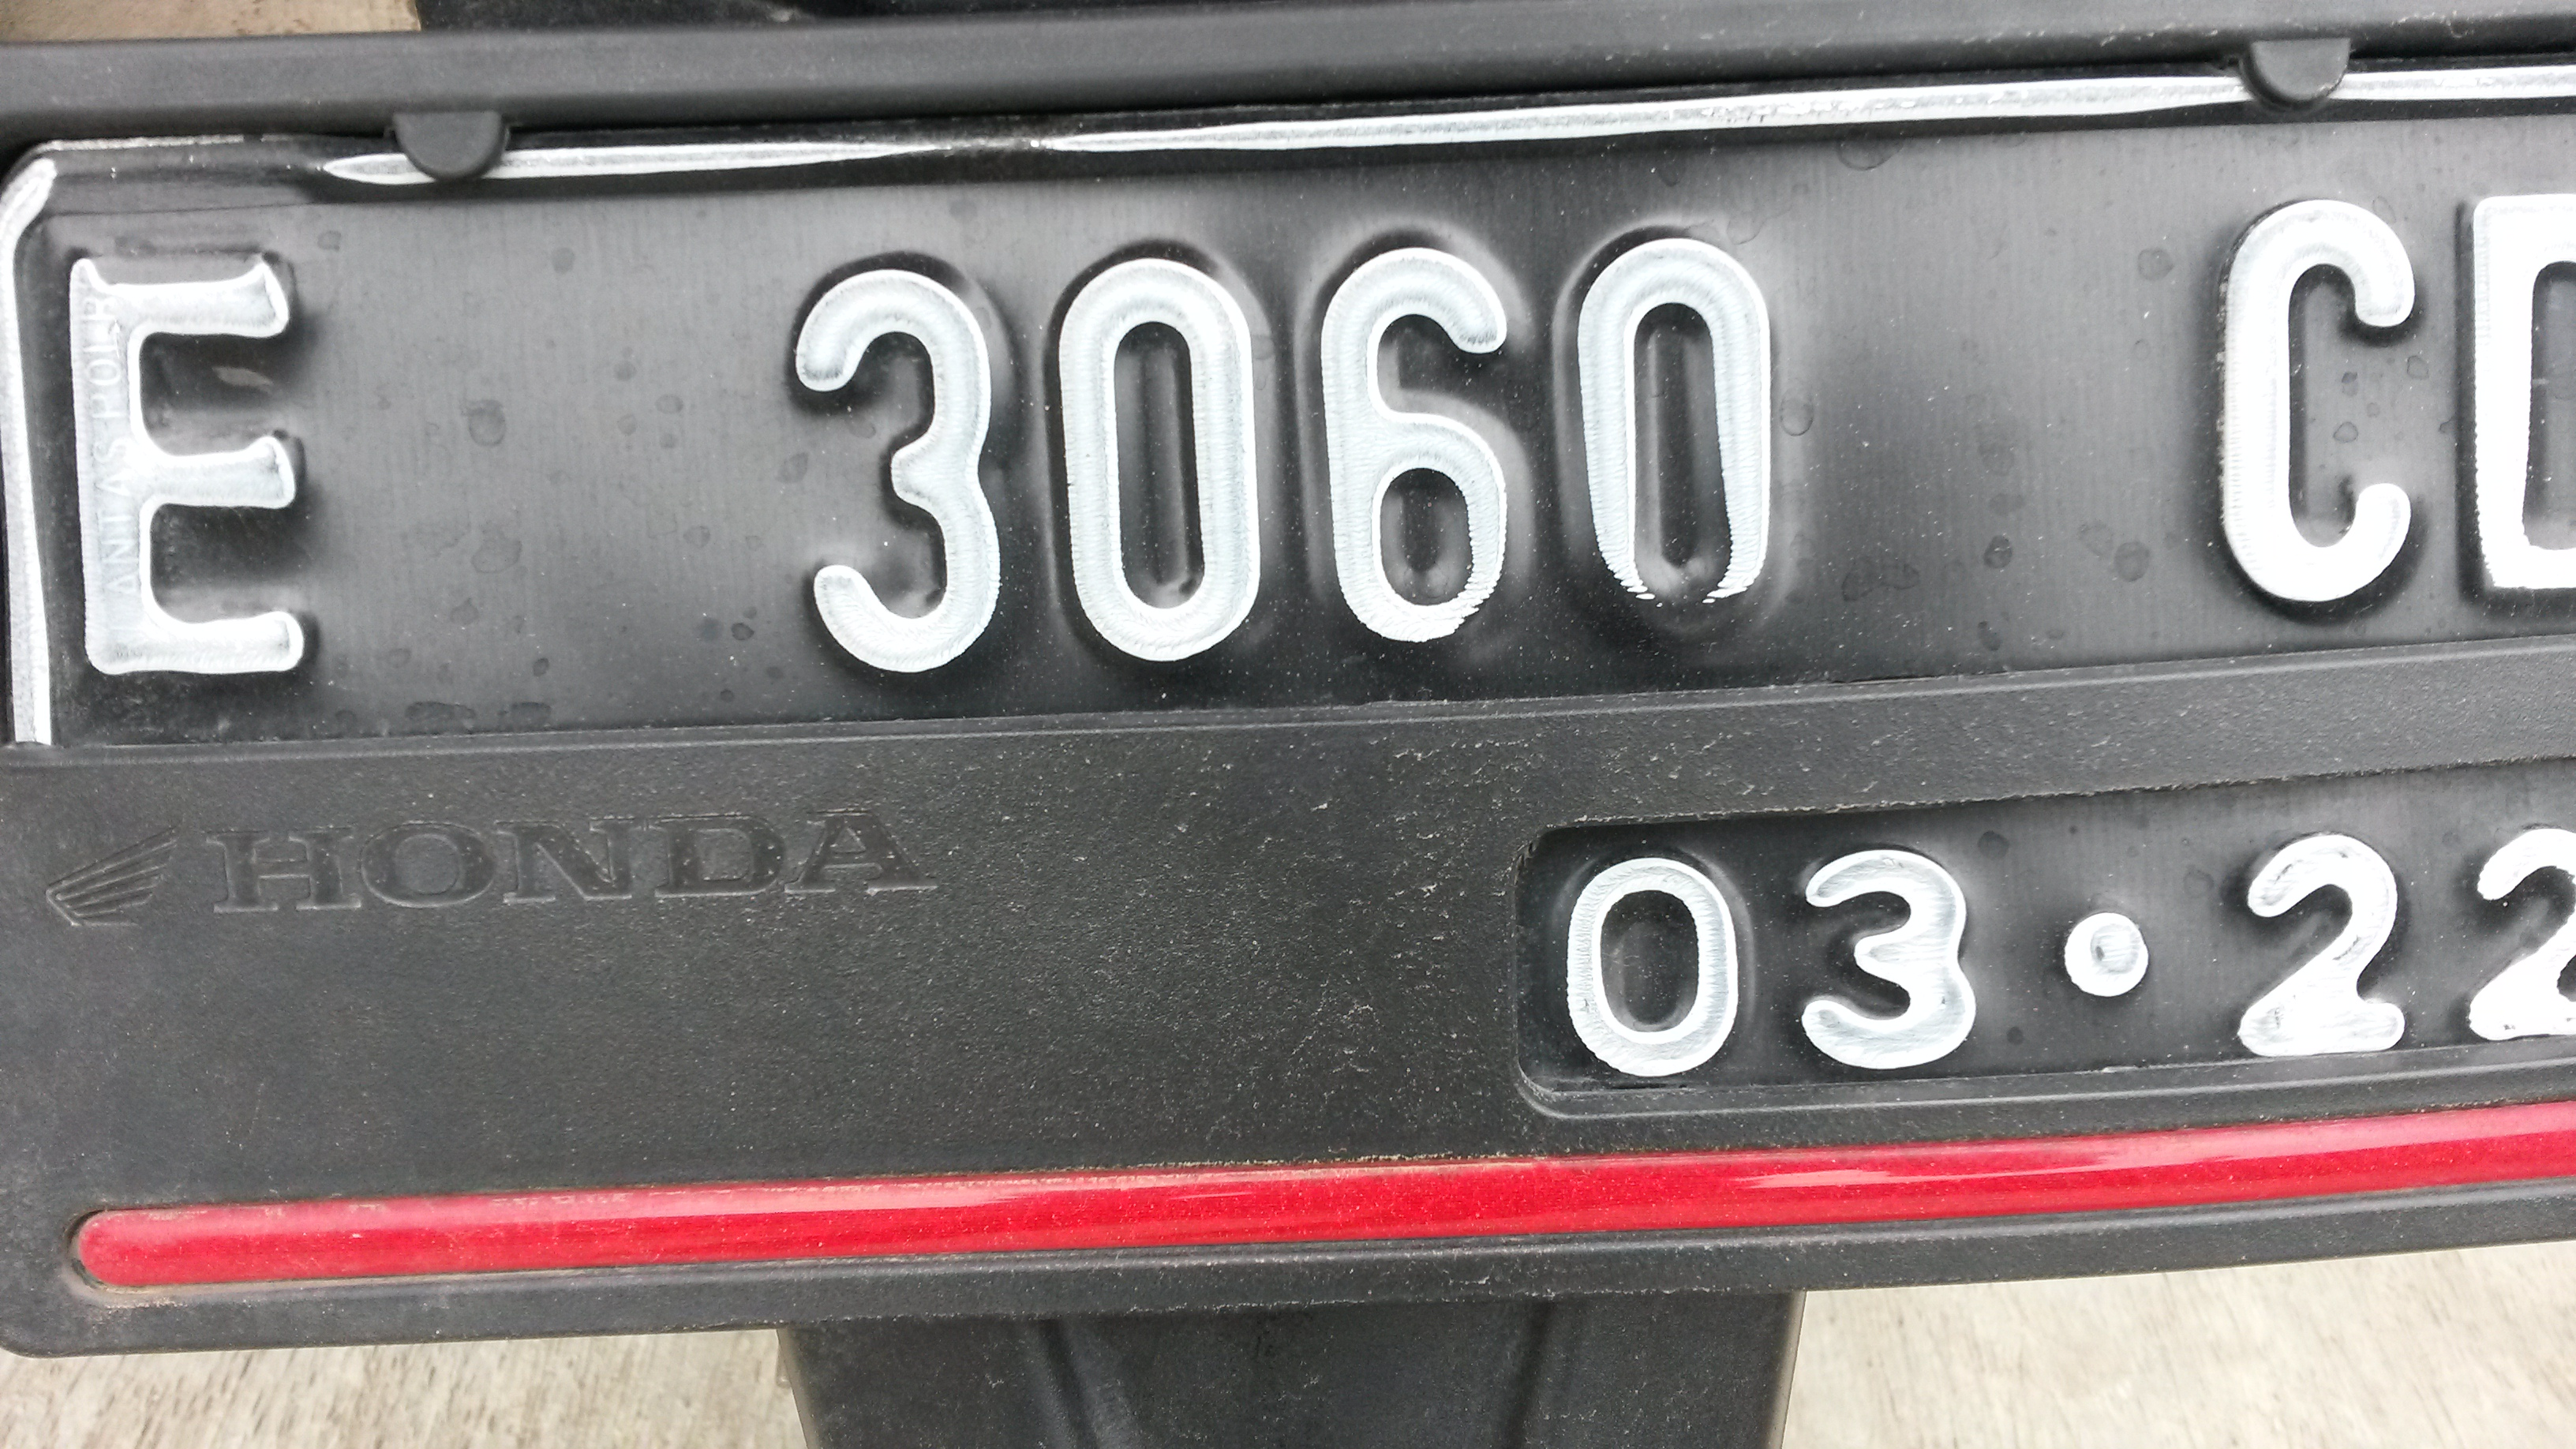plate: (1, 47, 2576, 1095)
